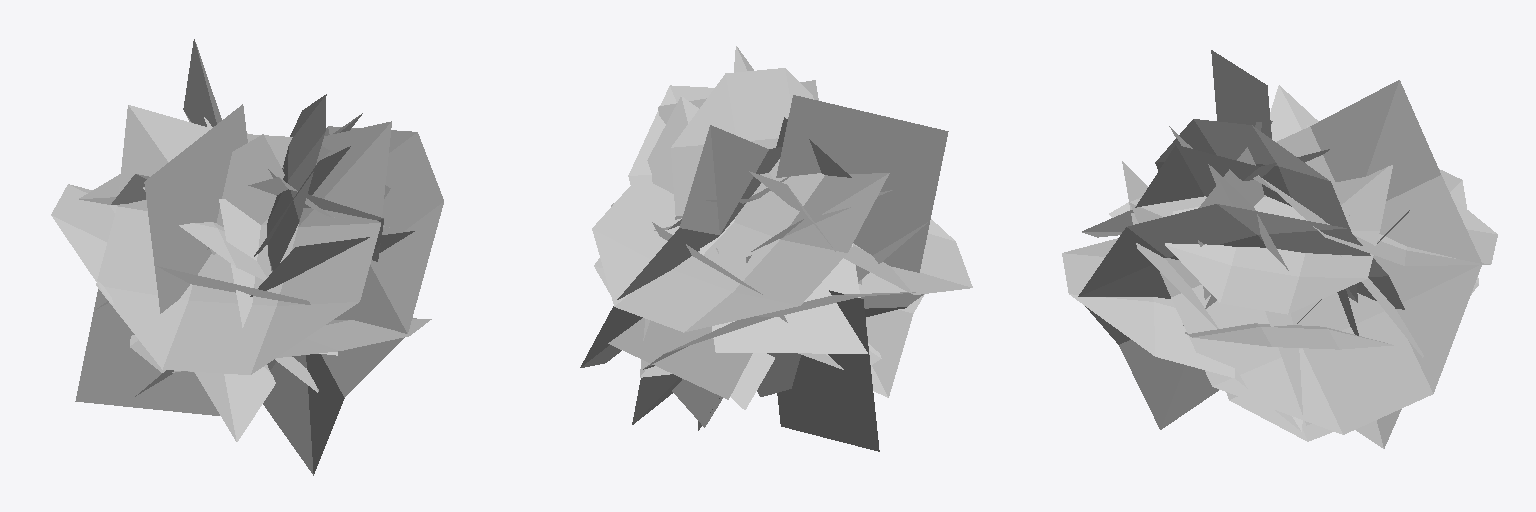
Rendered from TreeHojas-903.obj.
The picture shows the model from 3 angles: view 1: azimuth 30°, elevation 25°; view 2: azimuth 150°, elevation 25°; view 3: azimuth 270°, elevation 25°; orthographic projection.
Visible parts, largest first — view 1: Tree2, Tree; view 2: Tree2, Tree; view 3: Tree2, Tree.
Boxes of the visible parts, <box> form: Tree2: <box>79,39,391,374</box>; Tree: <box>51,94,443,475</box>; Tree2: <box>580,46,972,430</box>; Tree: <box>594,68,927,451</box>; Tree2: <box>1082,50,1497,441</box>; Tree: <box>1062,119,1478,448</box>.
Bounding box in the file's own units: 4.49 × 4.91 × 5.53.